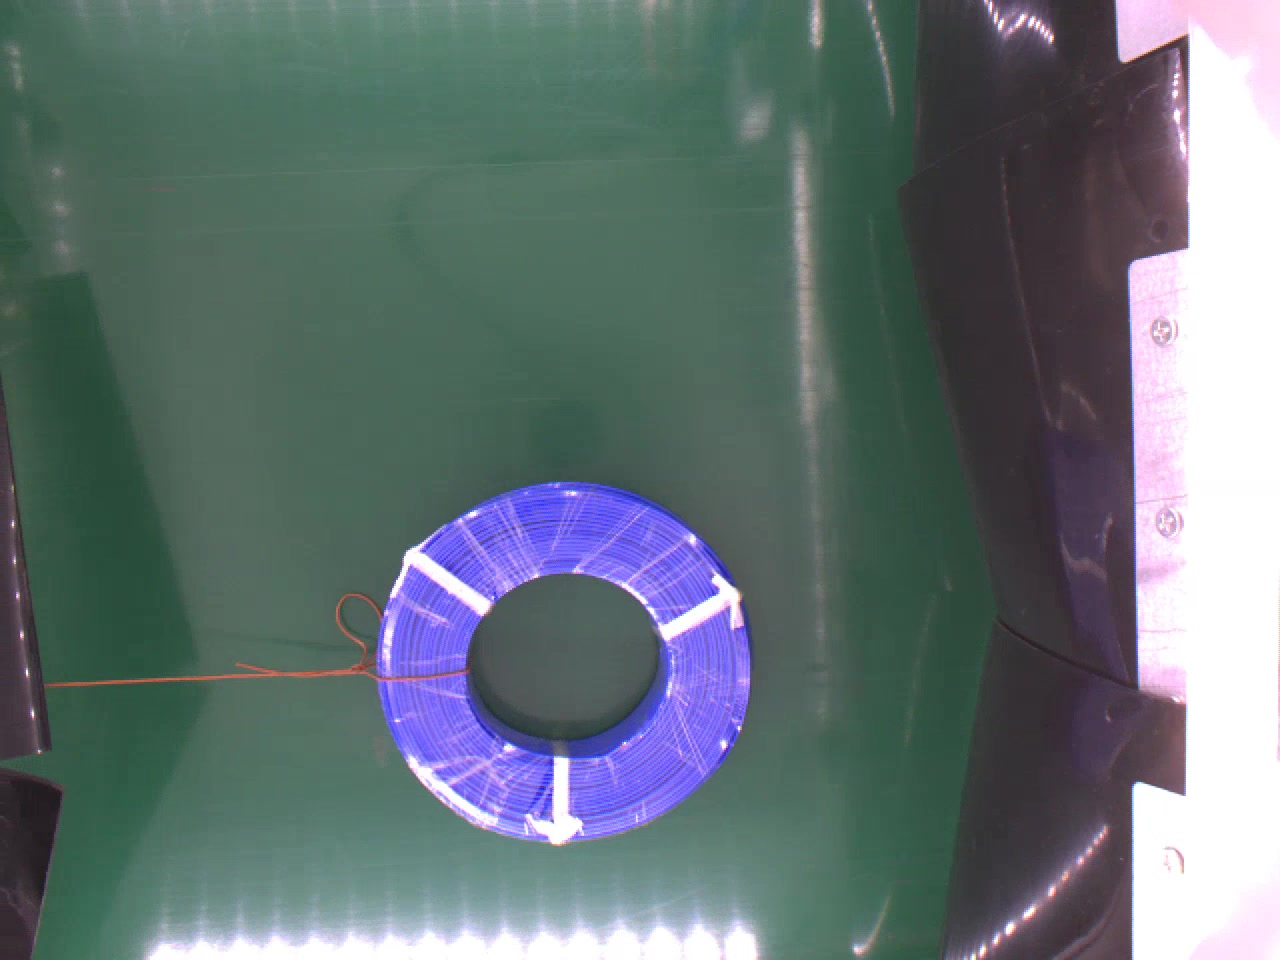blue: (373, 475, 752, 850)
